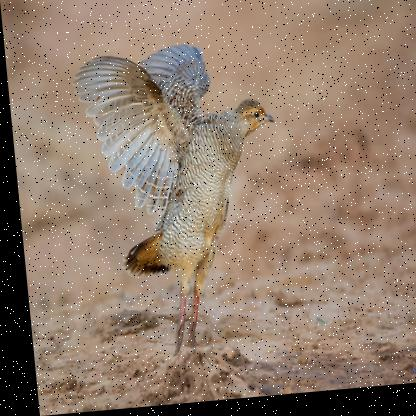Burung: (67, 42, 288, 364)
